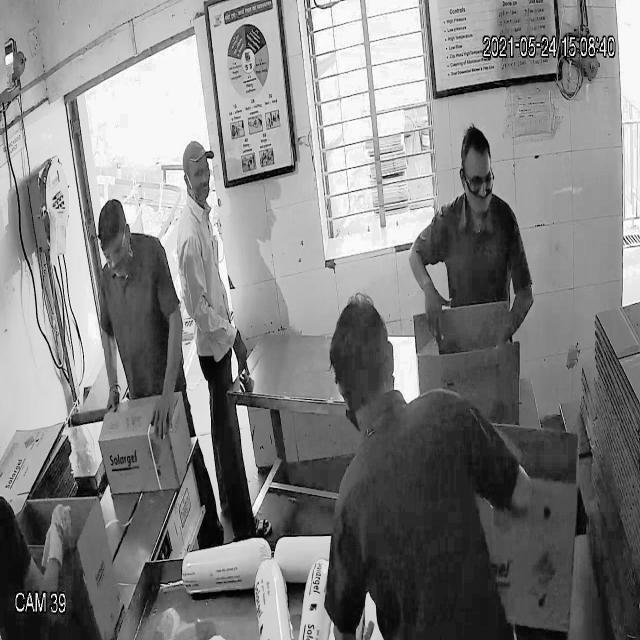glasses: (456, 159, 498, 197), (100, 235, 130, 265)
no-glass: (182, 163, 214, 186)
